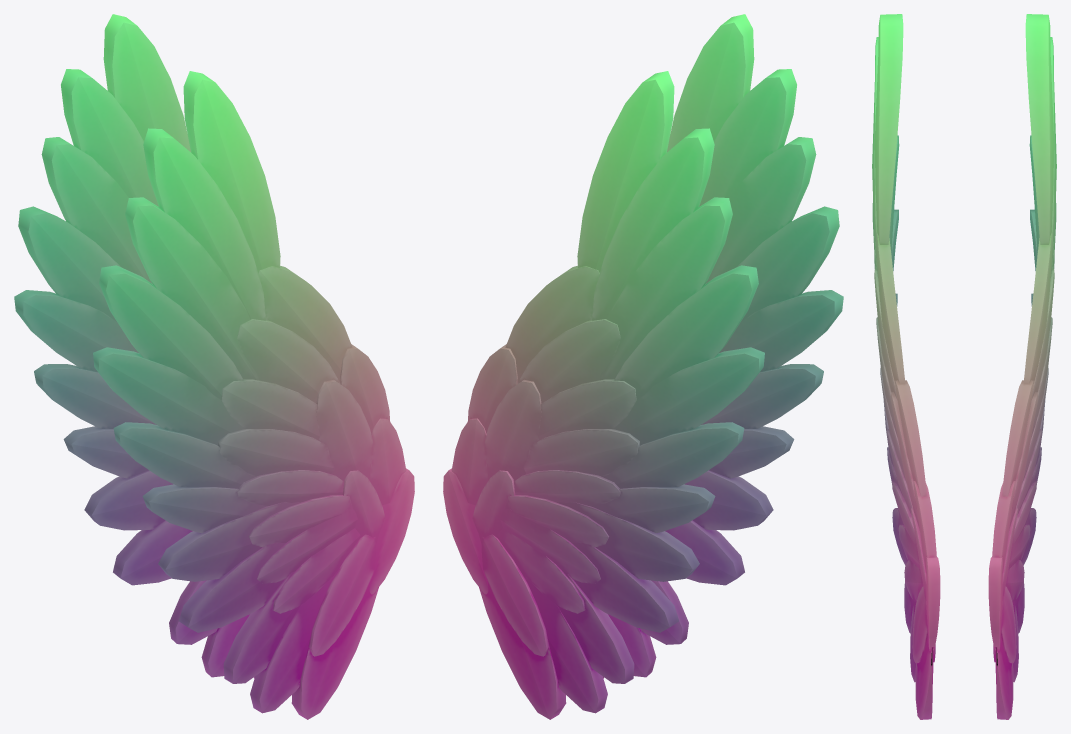
File: back_103.gltf
3 views of the same model, side by side, from view 1: azimuth 30°, elevation 25°; view 2: azimuth 150°, elevation 25°; view 3: azimuth 270°, elevation 25° (orthographic). The views are drawn at different scales.
Visible parts, largest first — view 1: Cylinder.001, Cylinder.000; view 2: Cylinder.000, Cylinder.001; view 3: Cylinder.000, Cylinder.001.
Boxes of the visible parts, left/top/right/bottom form: Cylinder.001: left=93, top=71, right=414, bottom=719; Cylinder.000: left=14, top=14, right=254, bottom=678; Cylinder.000: left=443, top=71, right=764, bottom=719; Cylinder.001: left=603, top=14, right=843, bottom=678; Cylinder.000: left=988, top=14, right=1056, bottom=719; Cylinder.001: left=872, top=14, right=940, bottom=719.
Bounding box in the file's own units: 0.7621 × 1.47 × 0.3825.
1 material, 1 textured.
